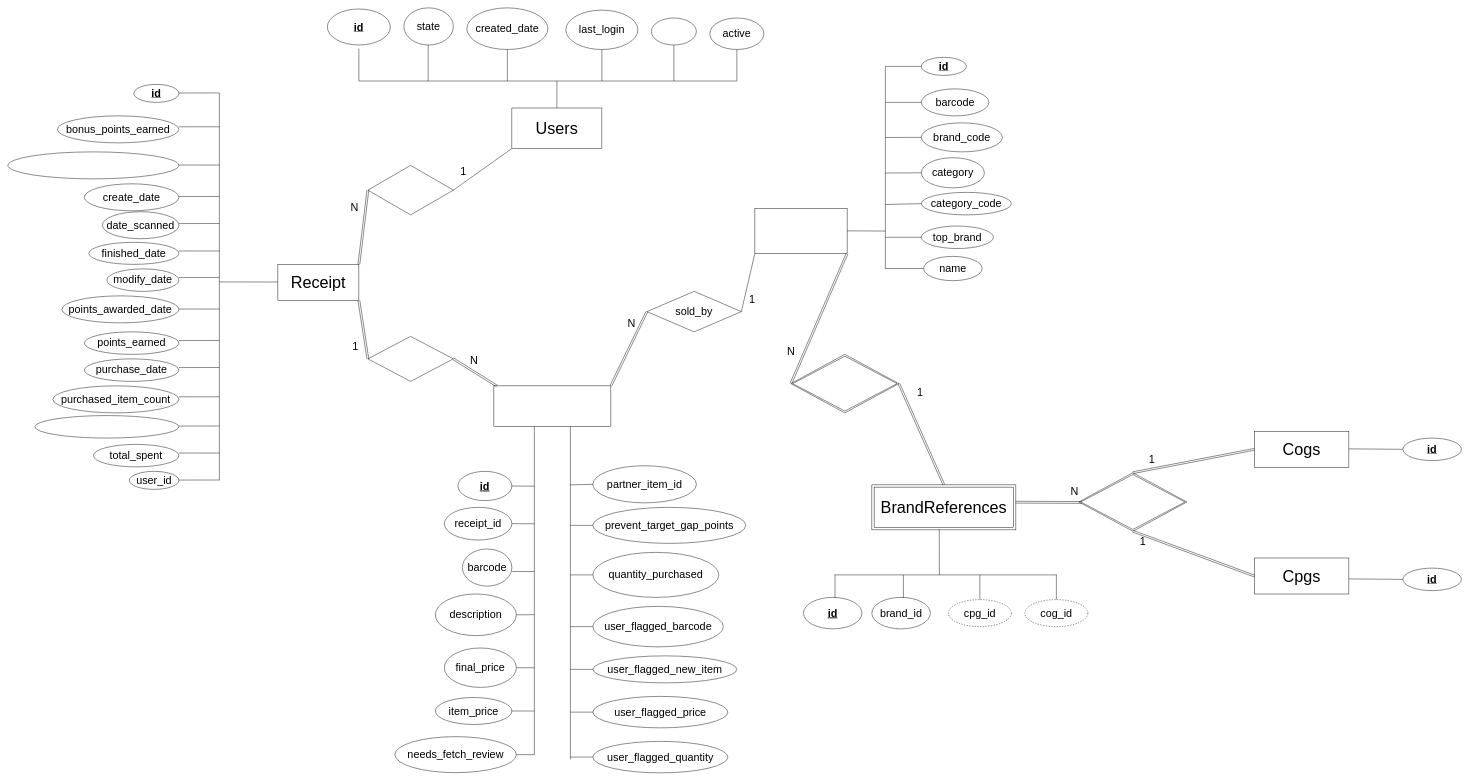
The diagram is 1469 pixels wide and 781 high, and some of its shapes have lost their labels. Here are the shapes that lost their labels. From the top down, the box of each, then its label:
(651, 18, 696, 45): role
(7, 151, 179, 179): bonus_points_earned_reason
(367, 165, 453, 215): scan_by
(754, 208, 847, 253): Brand
(367, 336, 453, 381): contain
(790, 354, 899, 413): refer to
(493, 385, 611, 426): ReceiptItem
(34, 415, 179, 438): rewards_receipt_status
(1078, 472, 1187, 531): is
